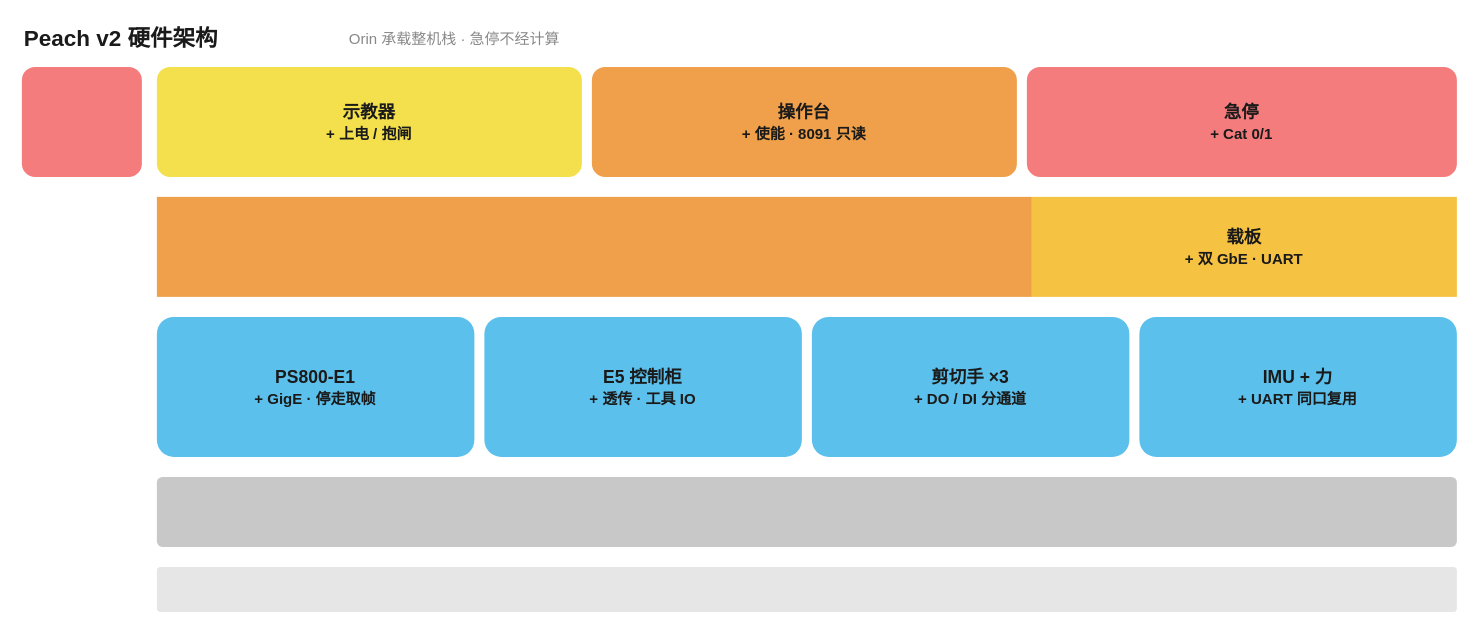
Some shapes in this 1478 by 633 pixel diagram are drawn without their labels. Each missing label, with the centre of its shape:
"Orin NX 16GB + 整机栈唯一算力 + 命令门写柜" goes at (593,246).
"RK3588 · 腕六维力 · 风速计 预留 许可与命令门不离开 NX" goes at (806,511).
"安全回路 不经 ROS" goes at (81,121).
"市电 / 车载电源 RTX 3090 开发机（不随车）" goes at (806,588).
